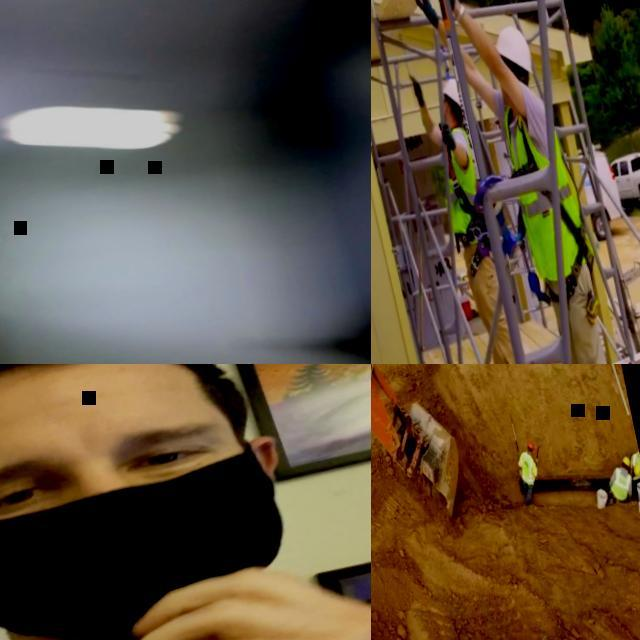helmet: (492, 22, 534, 78), (440, 76, 460, 106), (622, 454, 632, 466), (632, 461, 640, 474), (526, 438, 534, 448)
vest: (498, 92, 598, 283), (430, 124, 490, 243), (517, 449, 538, 483), (612, 464, 634, 494), (629, 446, 640, 469)
